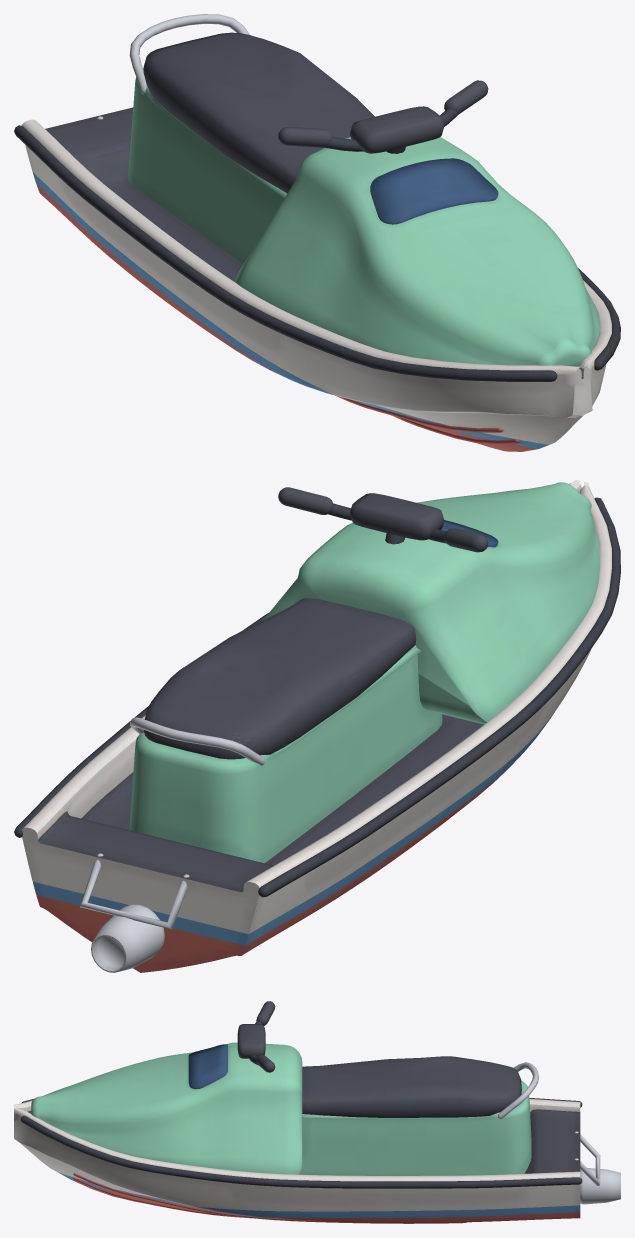
Rendered from jet-ski.glb.
3 renders of one model, top to bottom at view 1: azimuth 30°, elevation 25°; view 2: azimuth 150°, elevation 25°; view 3: azimuth 270°, elevation 25°, orthographic. The views are drawn at different scales.
Parts seen in each view (by area): view 1: jet-ski_body, jet-ski_handlebar; view 2: jet-ski_body, jet-ski_handlebar, jet-ski_jet_nozzle; view 3: jet-ski_body, jet-ski_handlebar, jet-ski_jet_nozzle.
Part boxes in pixels (x1,y1,x2,y2): jet-ski_body: [14, 14, 620, 451]; jet-ski_handlebar: [278, 80, 488, 153]; jet-ski_body: [14, 480, 620, 972]; jet-ski_handlebar: [278, 487, 488, 552]; jet-ski_jet_nozzle: [91, 904, 164, 972]; jet-ski_body: [14, 1042, 600, 1223]; jet-ski_handlebar: [237, 1001, 275, 1072]; jet-ski_jet_nozzle: [580, 1168, 620, 1204].
Bounding box in the file's own units: 1.26 × 1.16 × 3.43.
4 materials, 1 textured.
